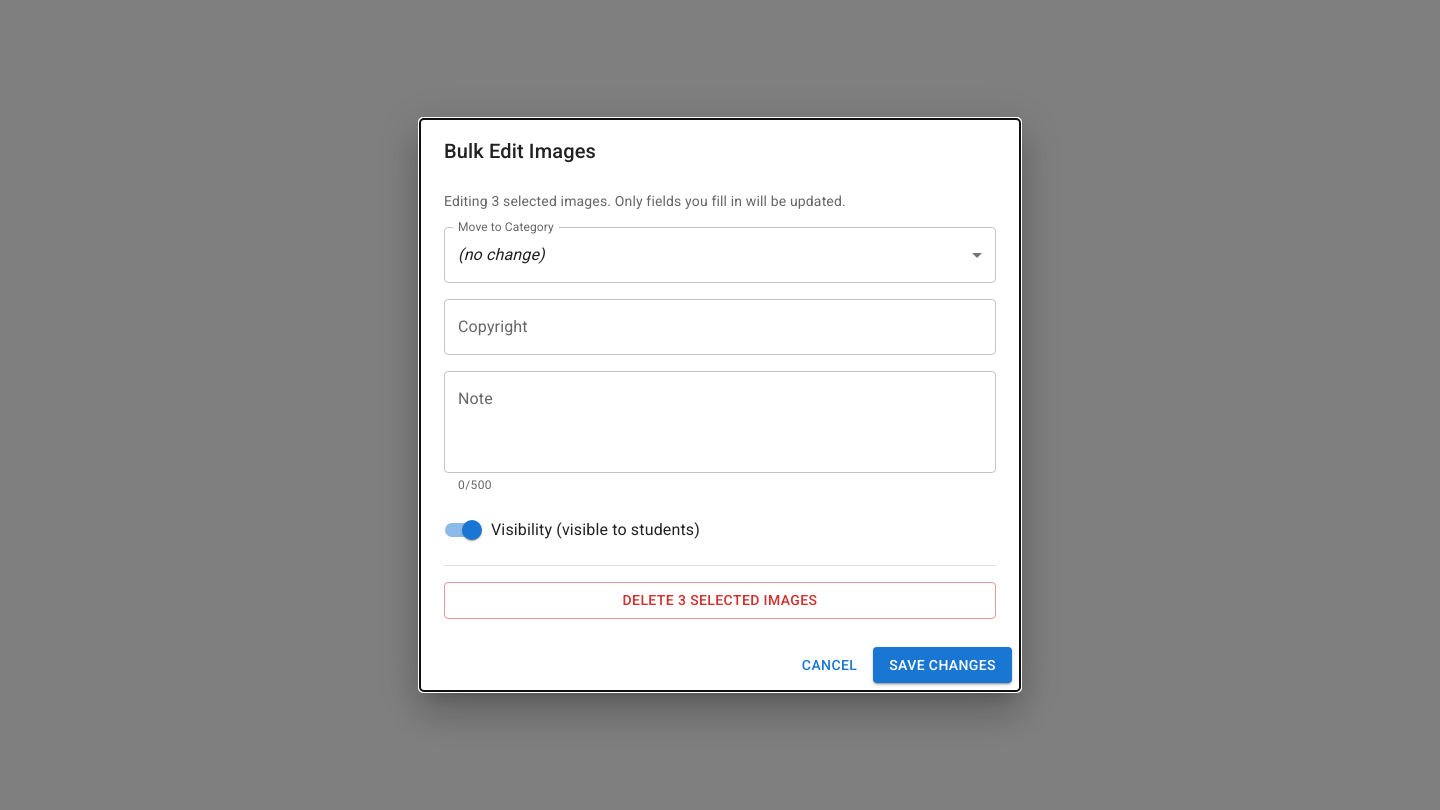
Test: BulkEditImagesModal – delete error toast › shows an error toast when bulk save fails
Click the button "Save Changes" at (943, 665), box [873,647,1012,684]
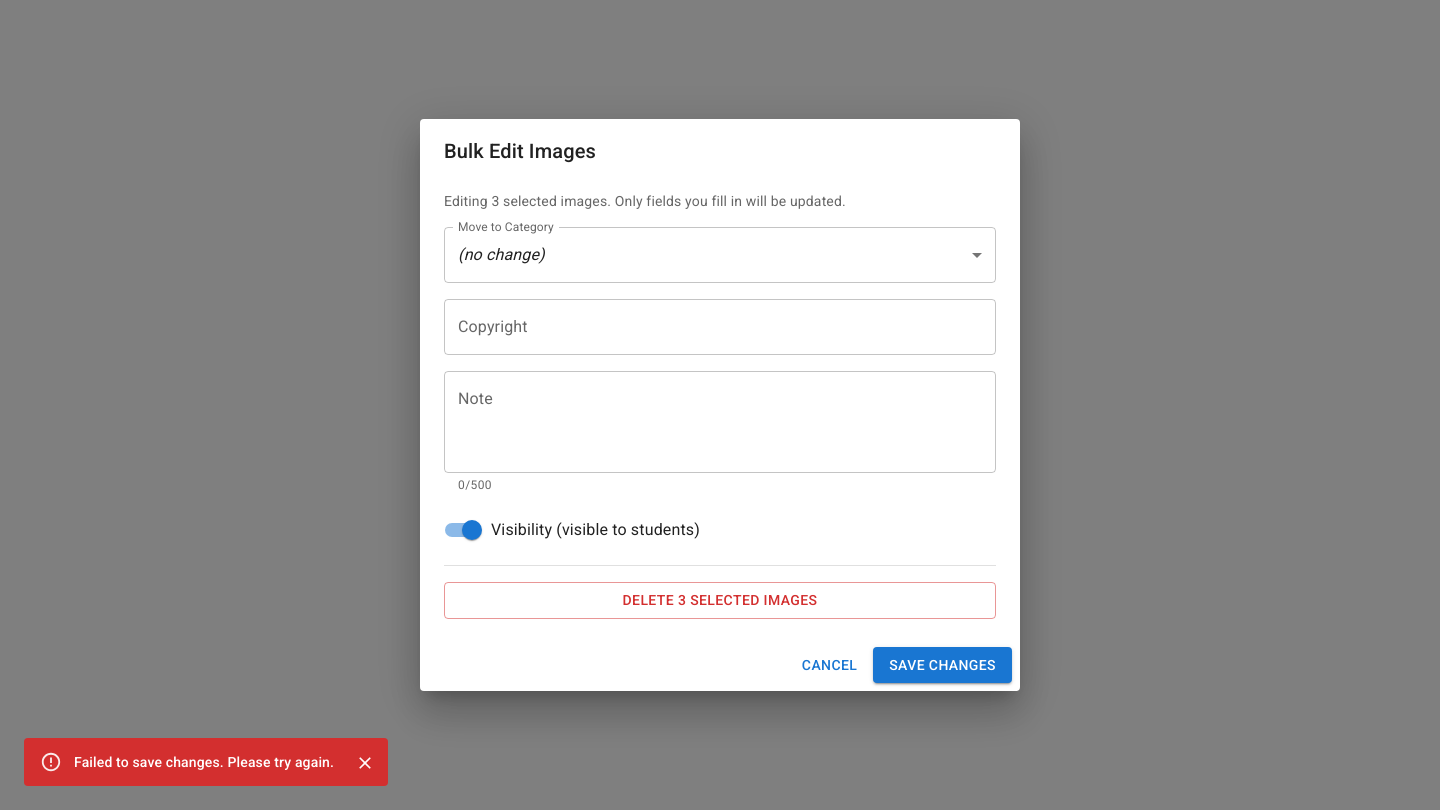
Result: the text "Failed to save changes. Please try again." is shown at [74,754,334,770]
